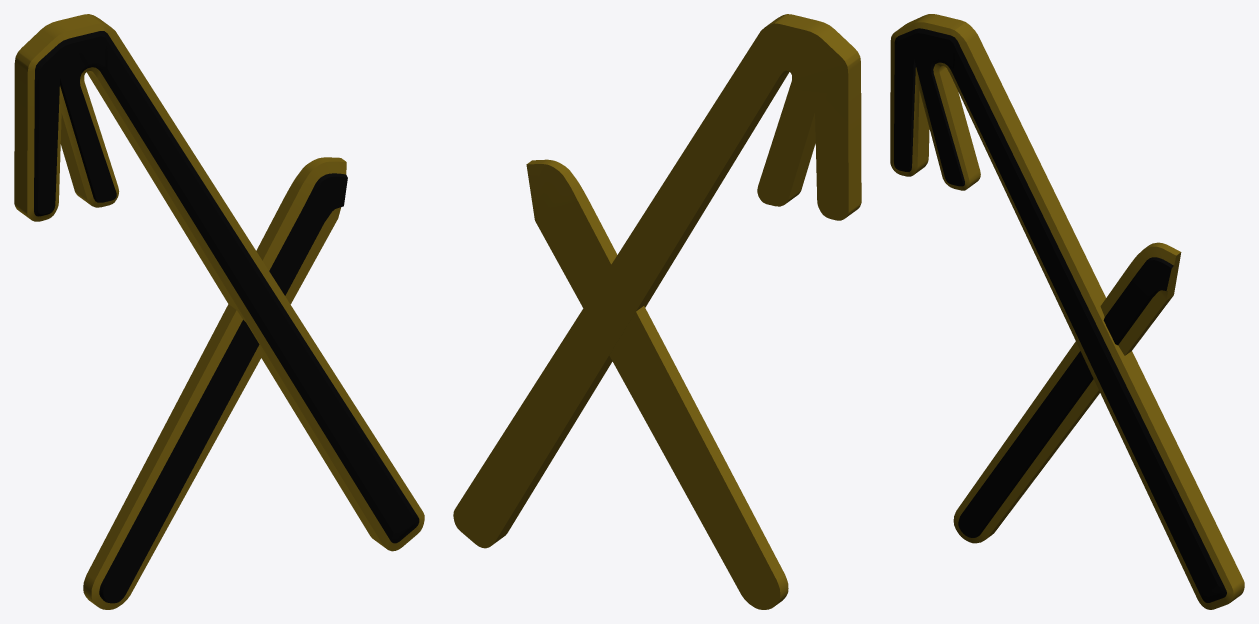
Rendered from Cuerpo Roto Bastones.fbx.
The picture shows the model from 3 angles, left to right: view 1: azimuth 30°, elevation 25°; view 2: azimuth 150°, elevation 25°; view 3: azimuth 330°, elevation 25°; orthographic projection. The views are drawn at different scales.
Parts seen in each view (by area): view 1: pSphere14; view 2: pSphere14; view 3: pSphere14.
Part boxes in pixels (left/top/right/bottom): pSphere14: left=14, top=14, right=424, bottom=609; pSphere14: left=453, top=14, right=861, bottom=609; pSphere14: left=890, top=14, right=1244, bottom=609.
Bounding box in the file's own units: 3.43 × 4.94 × 0.2331.
